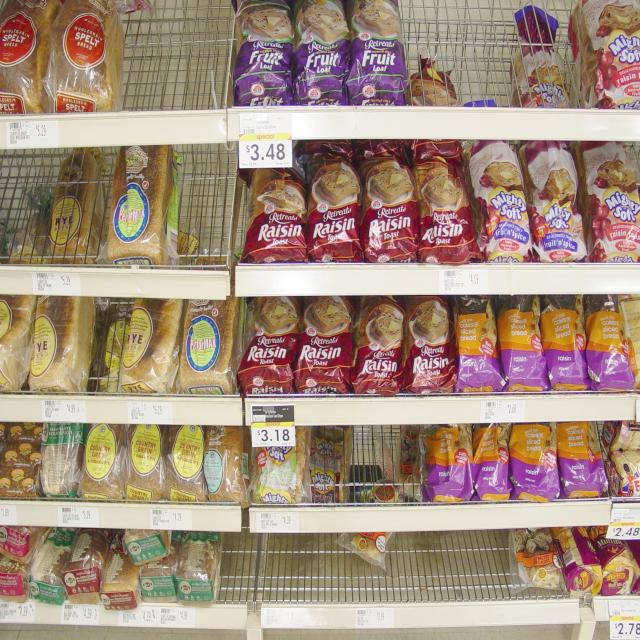empty_space: (232, 534, 500, 601), (411, 0, 516, 104), (119, 6, 220, 102), (12, 161, 104, 257), (319, 433, 409, 503), (183, 162, 225, 258)
